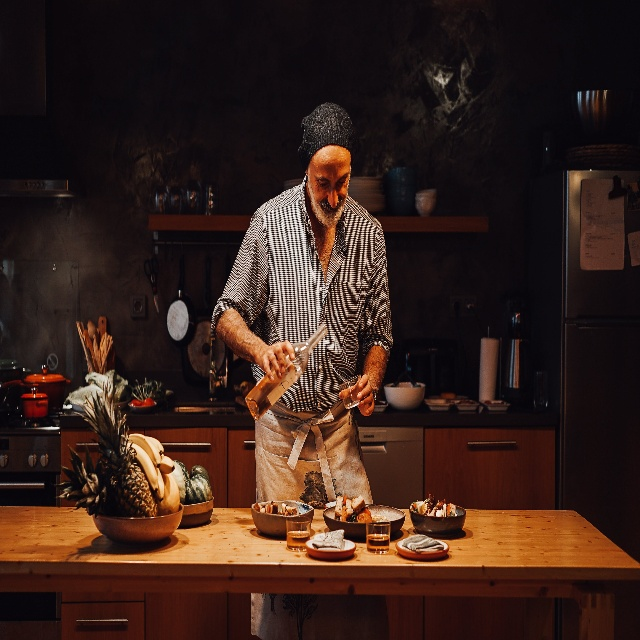Sin_guantes: (338, 372, 376, 419), (261, 339, 296, 384)
